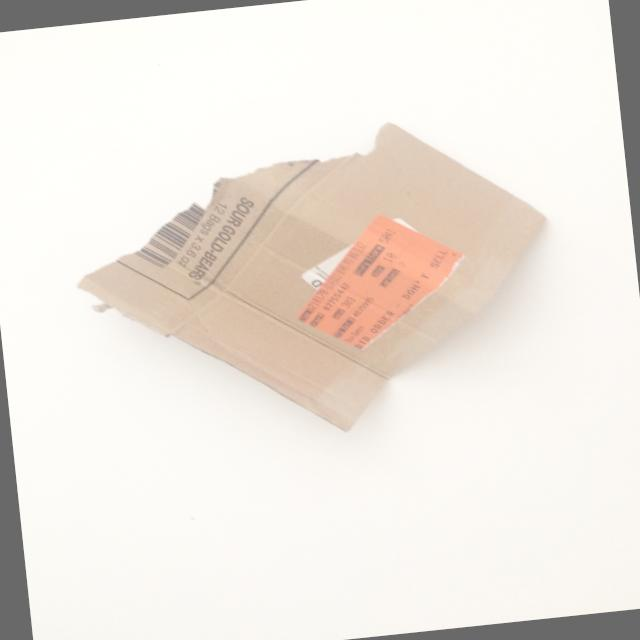Cardboard: (56, 100, 574, 476)
